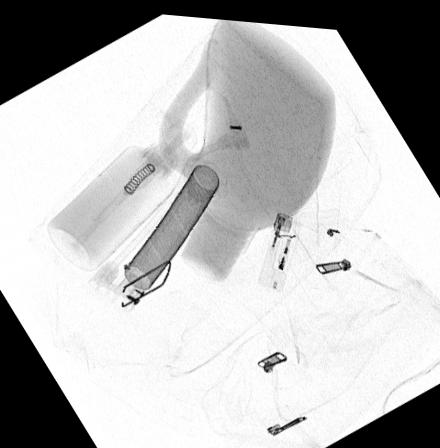Lighter: (255, 206, 301, 287)
